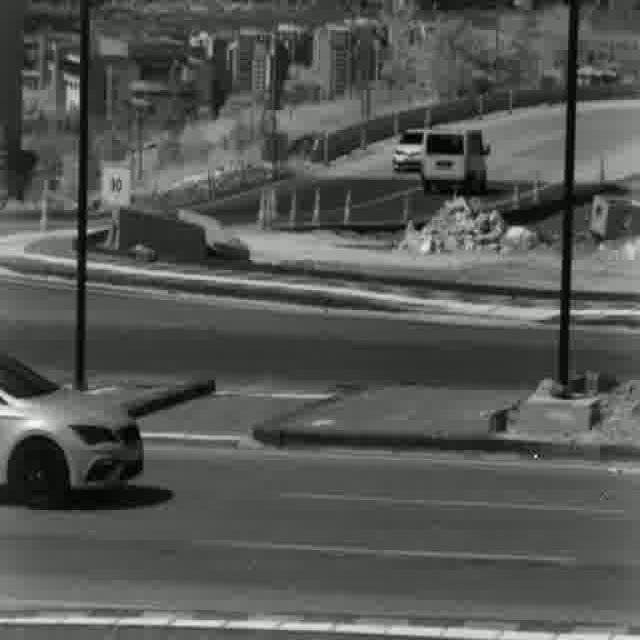Car: (0, 355, 149, 507), (422, 130, 486, 195), (392, 129, 422, 170)
